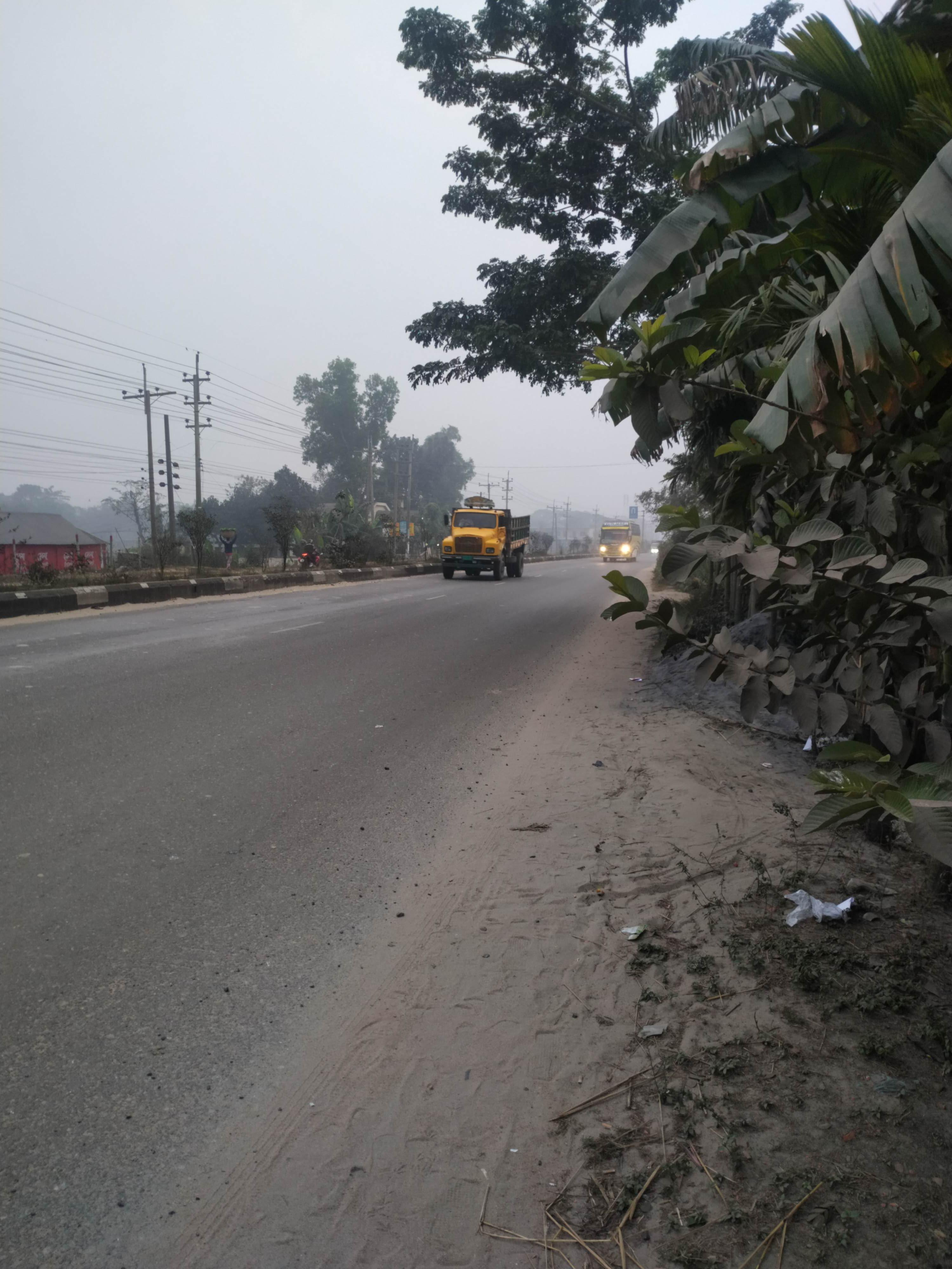Bus: (592, 509, 651, 580)
Truck: (432, 489, 555, 597)
